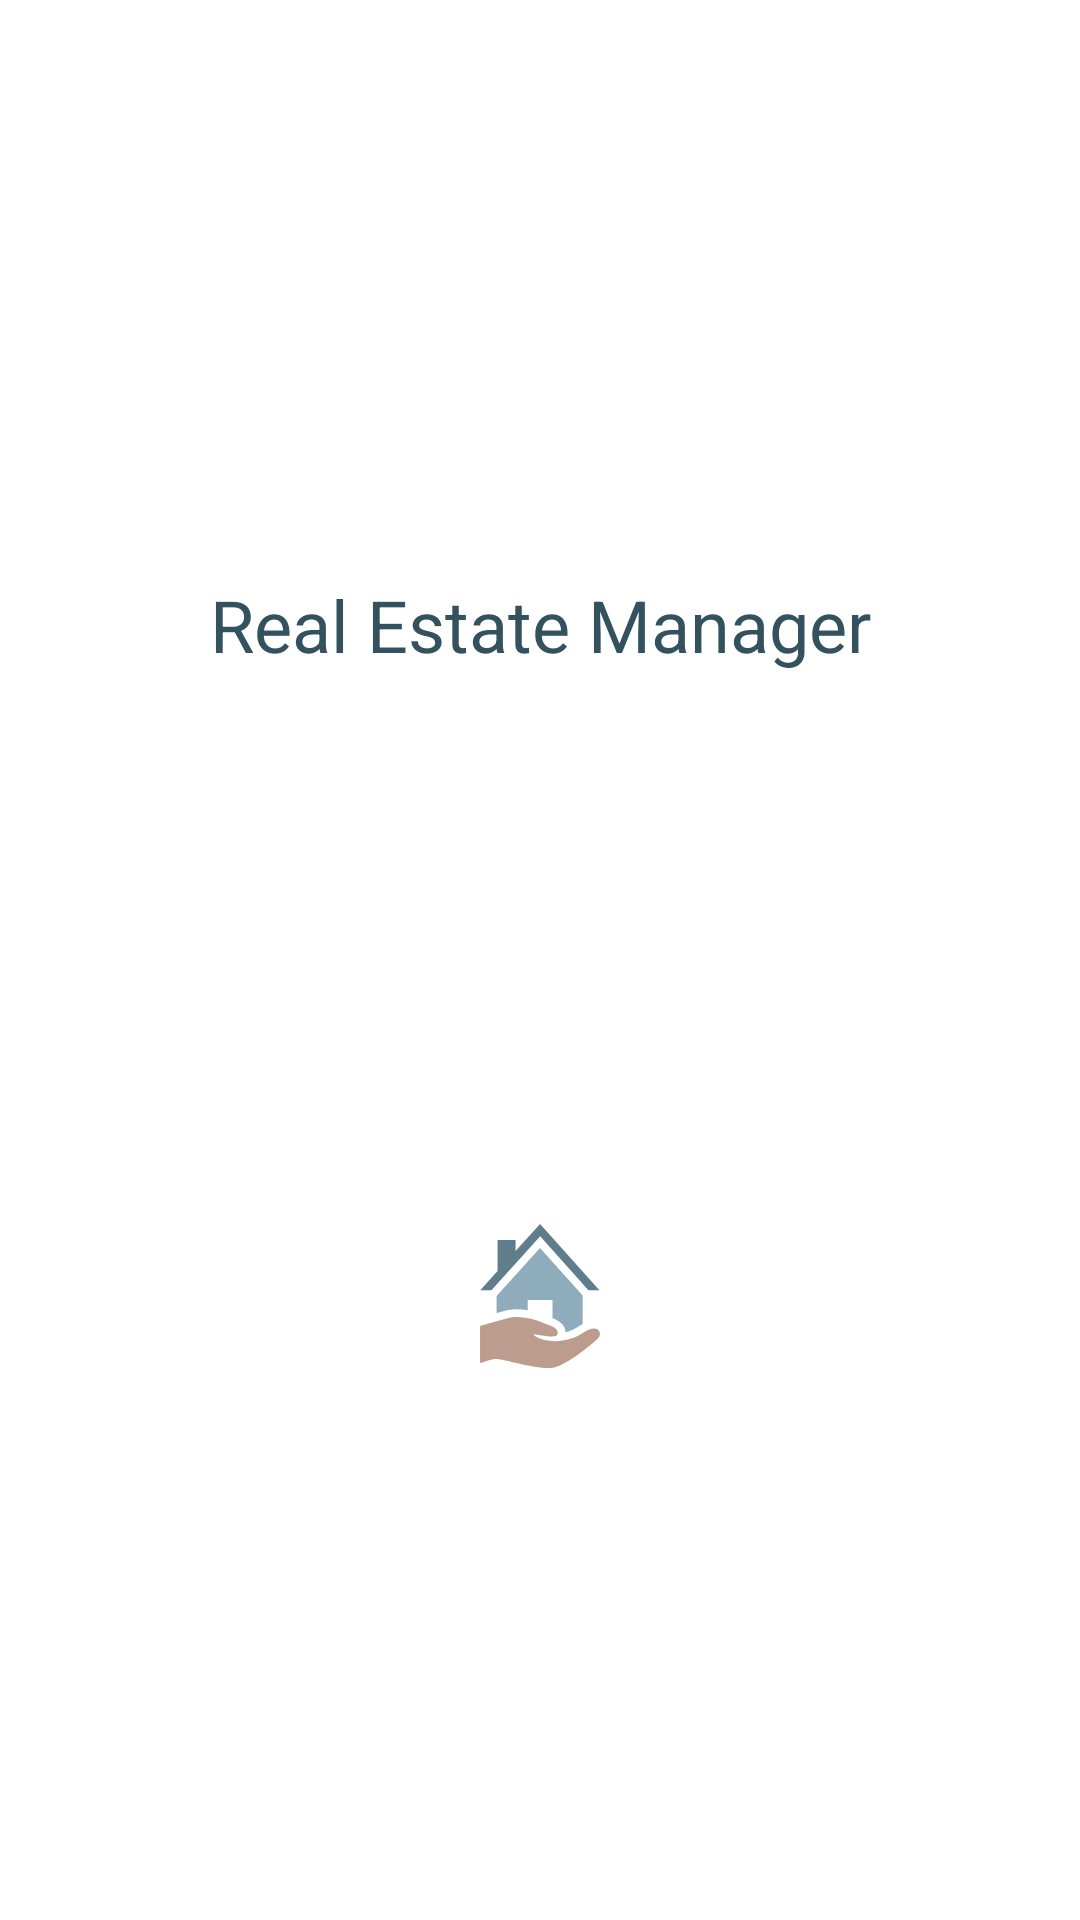

Point at icon controls on the screen. Image size 1080*1920, points as (x=x, y=y).
Real Estate Manager icon: (x=540, y=1296)
